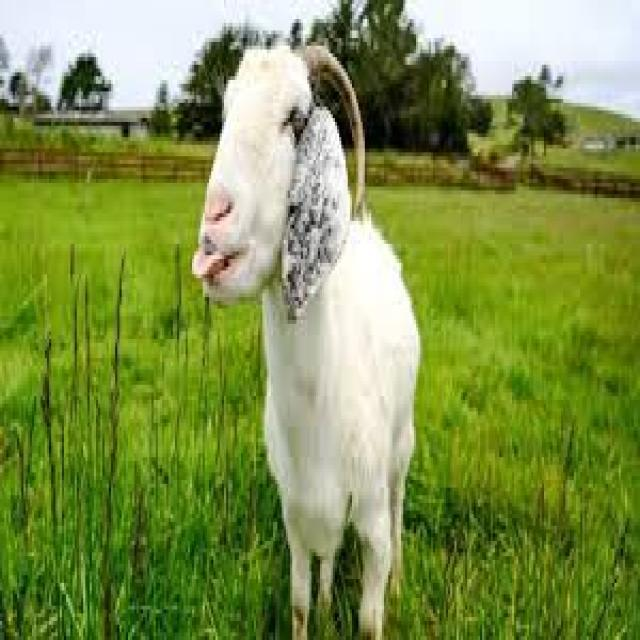Goat: (185, 38, 422, 640)
